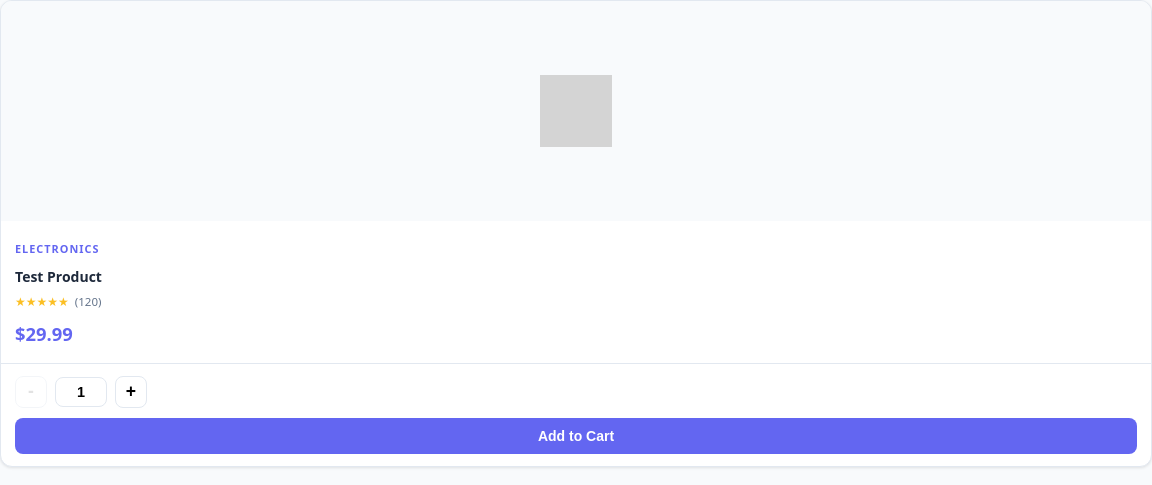
Scenario: ProductCard › resets quantity to 1 after adding to cart
The width and height of the screenshot is (1152, 485).
Click the button named "increase quantity" at (131, 392), box x1=115 y1=376 x2=147 y2=408
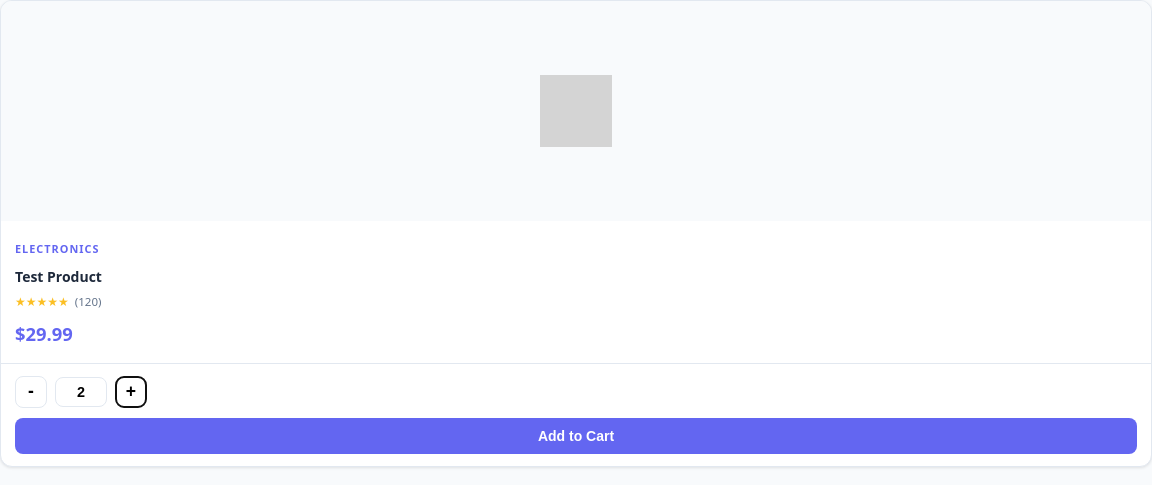
Click the button "Add to Cart" at (576, 436), box x1=15 y1=418 x2=1137 y2=454
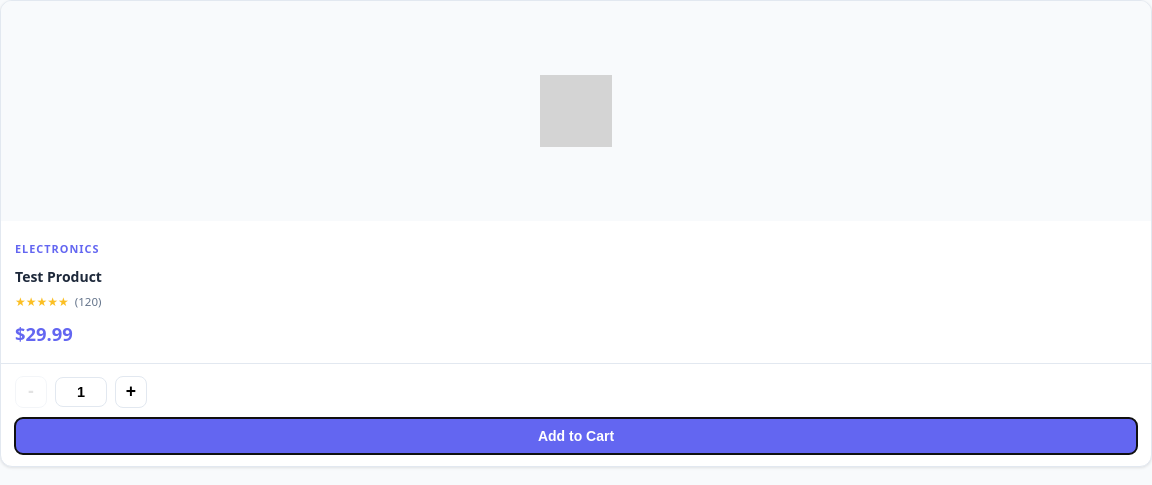
Result: the number field named "quantity" holds "1" at x1=55 y1=377 x2=107 y2=407
